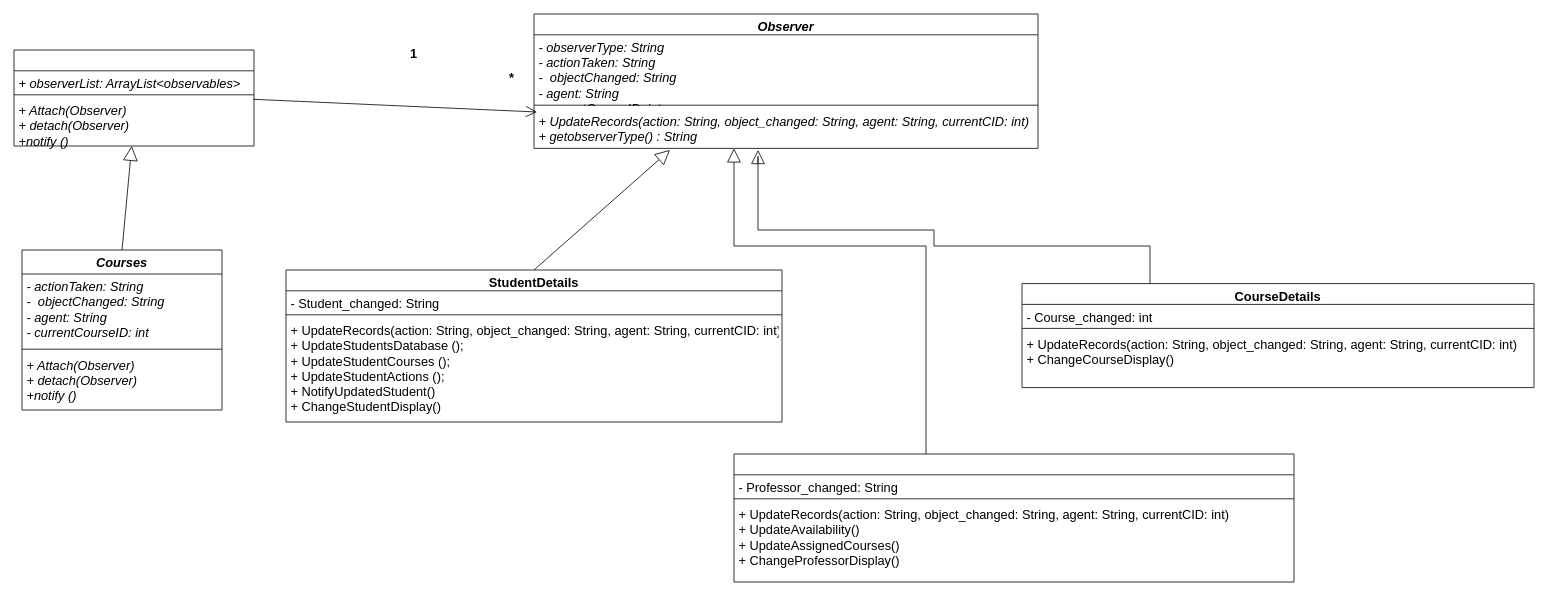
The diagram is 1548 pixels wide and 598 high, and some of its shapes have lost their labels. Each missing label, with the box of its shape:
ProfessorDetails: (733, 453, 1294, 582)
Subject: (13, 49, 254, 146)
